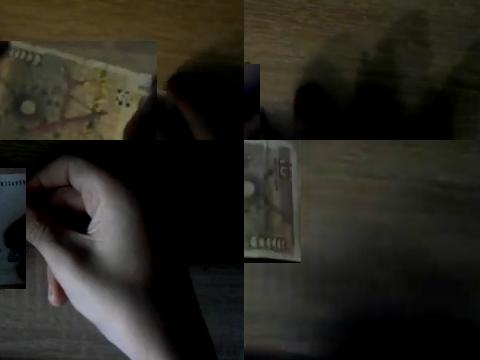10leva: (0, 41, 149, 140), (244, 140, 301, 263)
